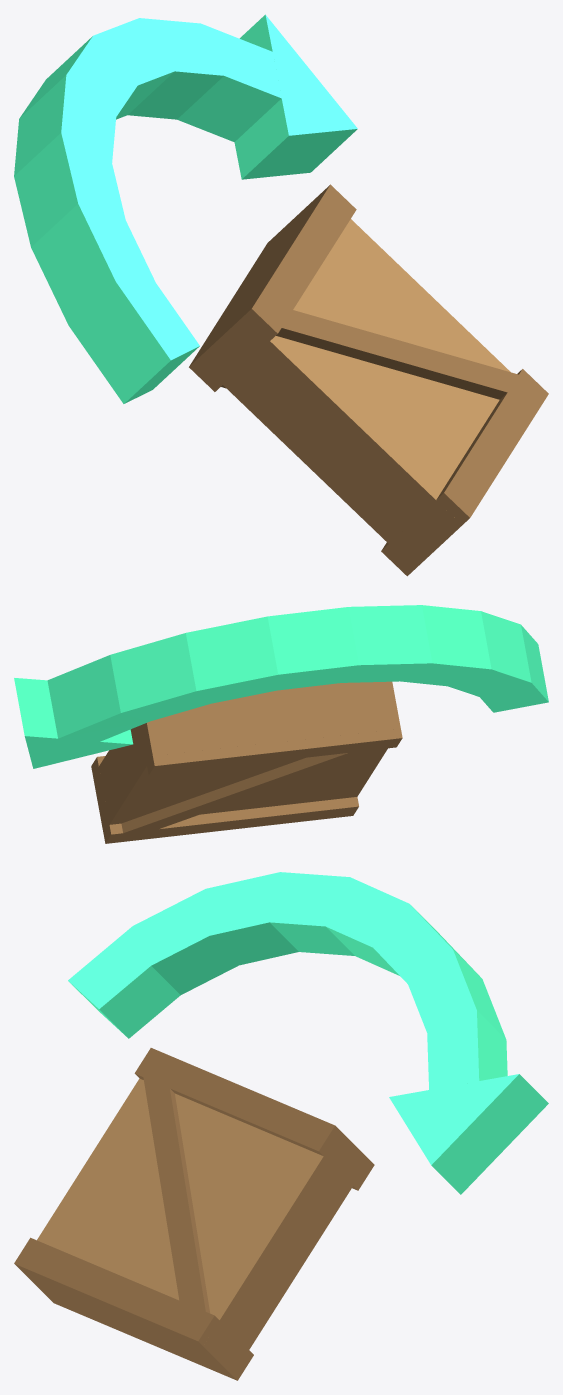
Rendered from icon_material_transfer.glb.
3 renders of one model, top to bottom at view 1: azimuth 30°, elevation 25°; view 2: azimuth 150°, elevation 25°; view 3: azimuth 270°, elevation 25°, orthographic. The views are drawn at different scales.
Parts seen in each view (by area): view 1: icon_material_transfer; view 2: icon_material_transfer; view 3: icon_material_transfer.
Part boxes in pixels (x1,y1,x2,y2): icon_material_transfer: (14,14,548,576); icon_material_transfer: (14,605,548,843); icon_material_transfer: (14,872,548,1380).
Size of the model in its own units: 0.951 by 0.7533 by 1.03.
